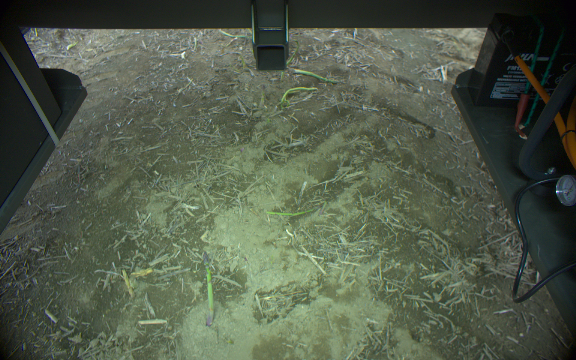aspa: (200, 250, 216, 326), (290, 66, 342, 85), (265, 206, 324, 218), (281, 87, 318, 102), (217, 29, 247, 38)
